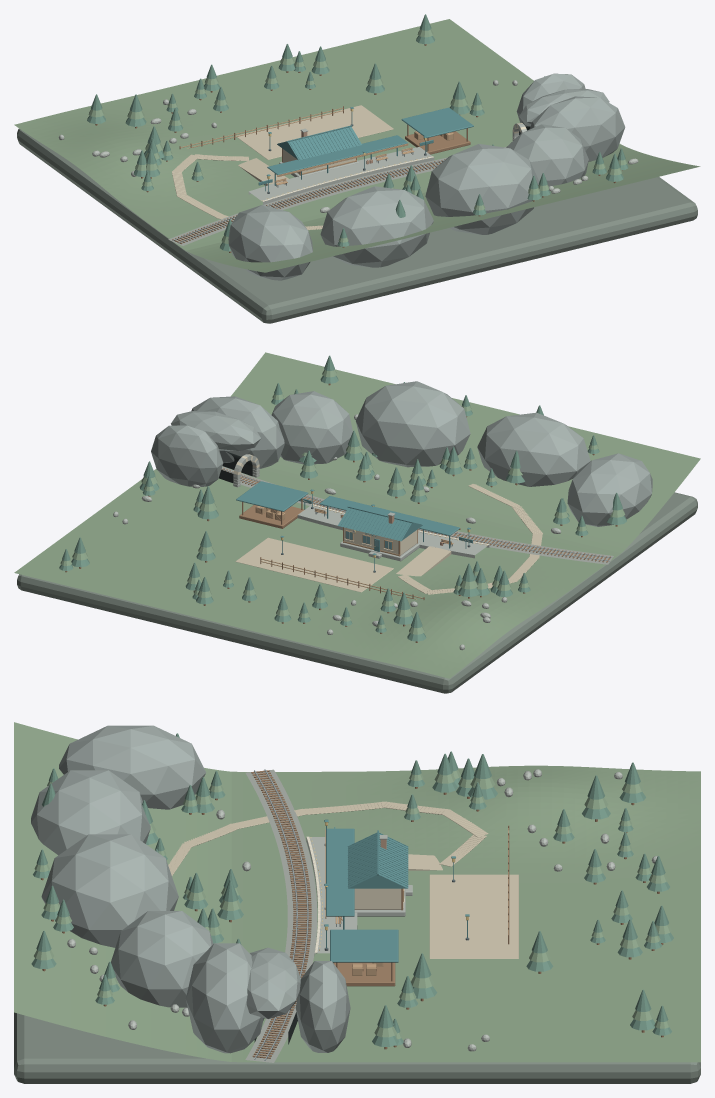
Rendered from AlderPass.fbx.
The picture shows the model from 3 angles, top to bottom: view 1: azimuth 30°, elevation 25°; view 2: azimuth 150°, elevation 25°; view 3: azimuth 270°, elevation 25°; orthographic projection. The views are drawn at different scales.
Visible parts, largest first — view 1: 100m sculpted hillside; view 2: 100m sculpted hillside; view 3: 100m sculpted hillside.
Boxes of the visible parts, x1=… form: 100m sculpted hillside: x1=14, y1=14, x2=700, y2=323; 100m sculpted hillside: x1=14, y1=352, x2=700, y2=693; 100m sculpted hillside: x1=14, y1=722, x2=700, y2=1083.
Bounding box in the file's own units: 10104 × 10000 × 2012.
